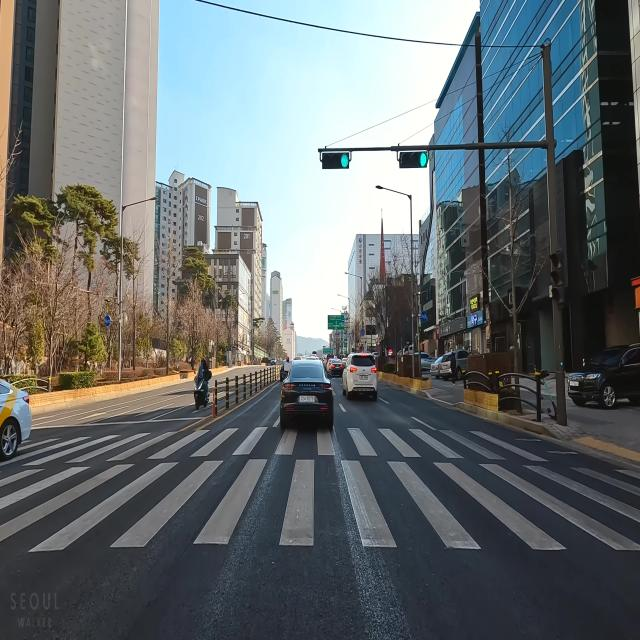Green Light: (419, 151, 428, 168), (341, 153, 349, 168)
